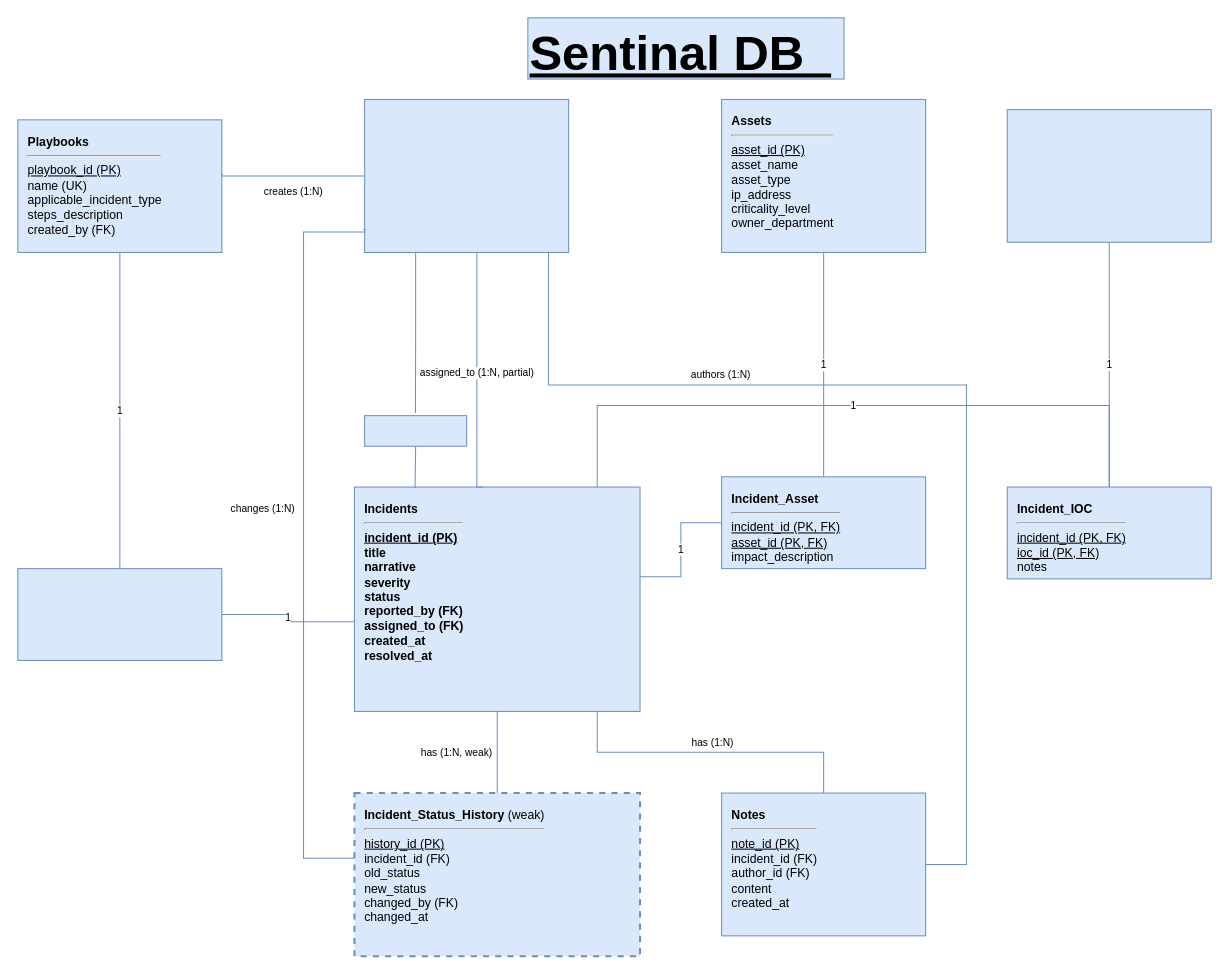
Some shapes in this 1229 by 975 pixel diagram are drawn without their labels. The box of each missing label's shape, as (x1, y1, x2, y2) in pixels:
Incident_Playbook incident_id (PK, FK) playbook_id (PK, FK) applied_at: (17, 568, 222, 660)
IOCs ioc_id (PK) ioc_type ioc_value first_seen threat_level: (1006, 109, 1211, 242)
reported_by (1:N): (364, 415, 467, 446)
Users user_id (PK) name email (UK) password_hash role created_at: (364, 98, 569, 252)
